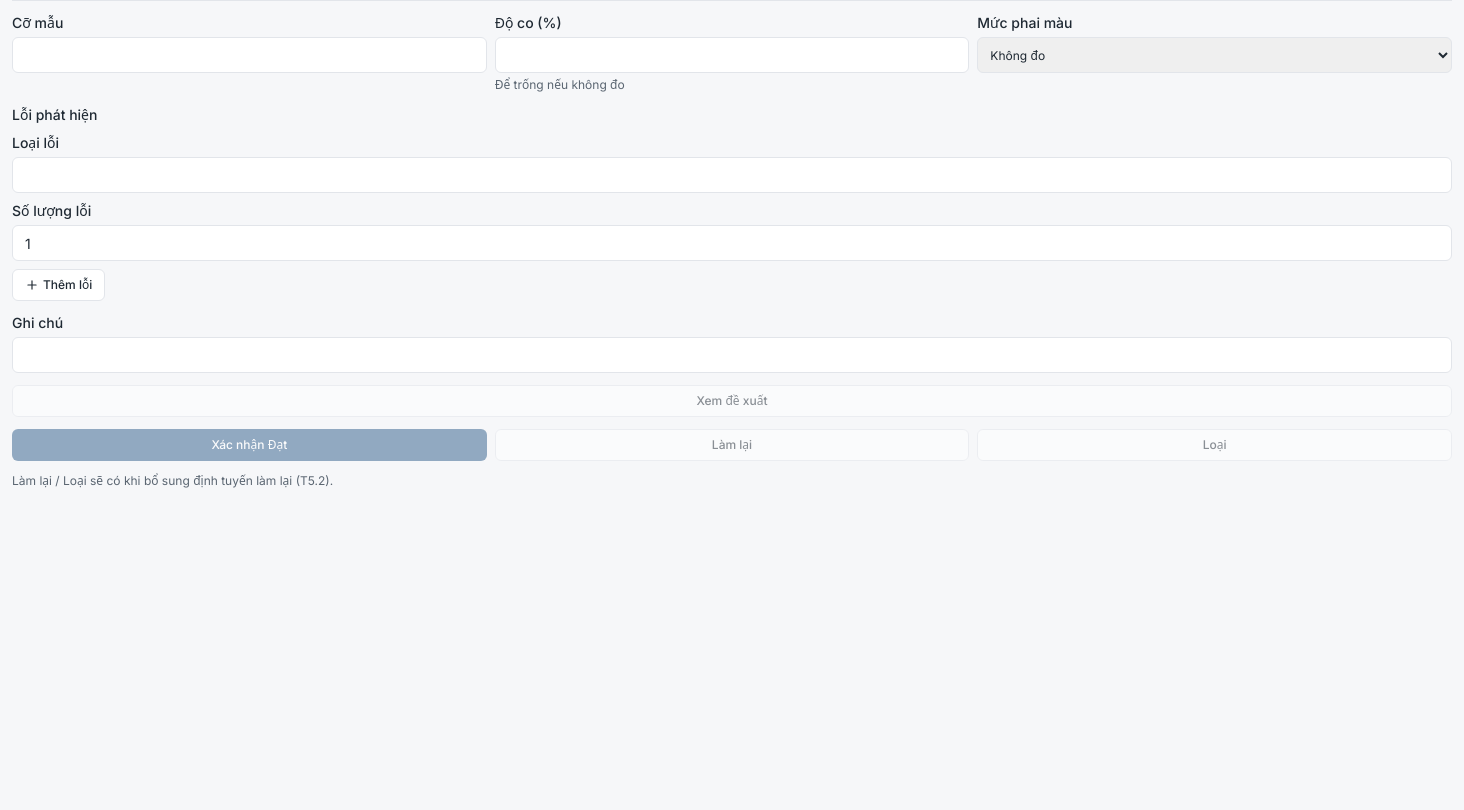
Test: QcPanel (T5.1, FR-16) › previews the proposal and only lets the inspector confirm a PASS (BR-19)
This screenshot has width=1464, height=810.
Type "20" into the number field labelled "Cỡ mẫu". click: (249, 55)
box: [12,37,487,73]
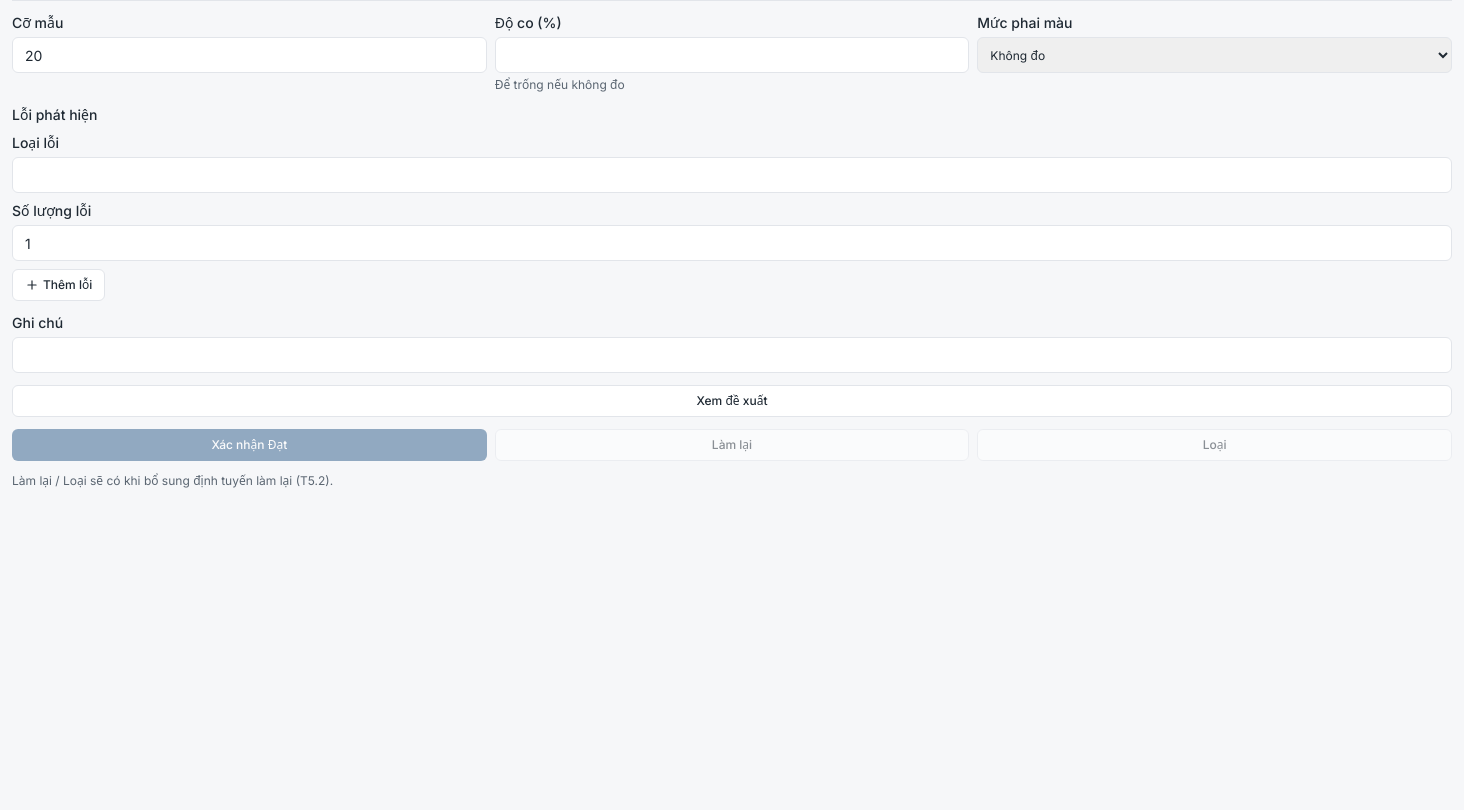
Type "4" into the number field labelled "Độ co (%)". click: (732, 55)
box: [495,37,969,73]
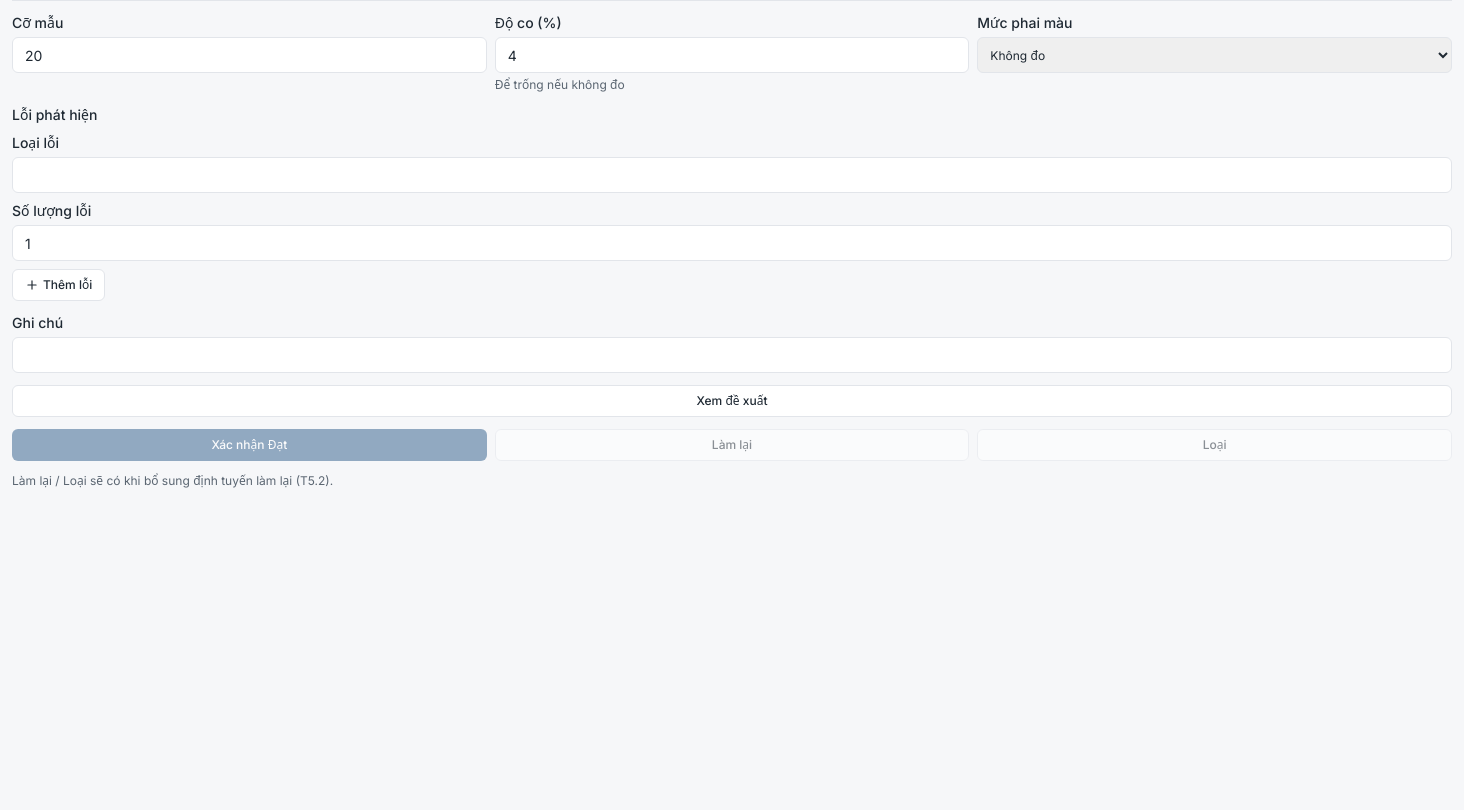
Click the button "Xem đề xuất". click: (732, 401)
box: [12,385,1452,417]
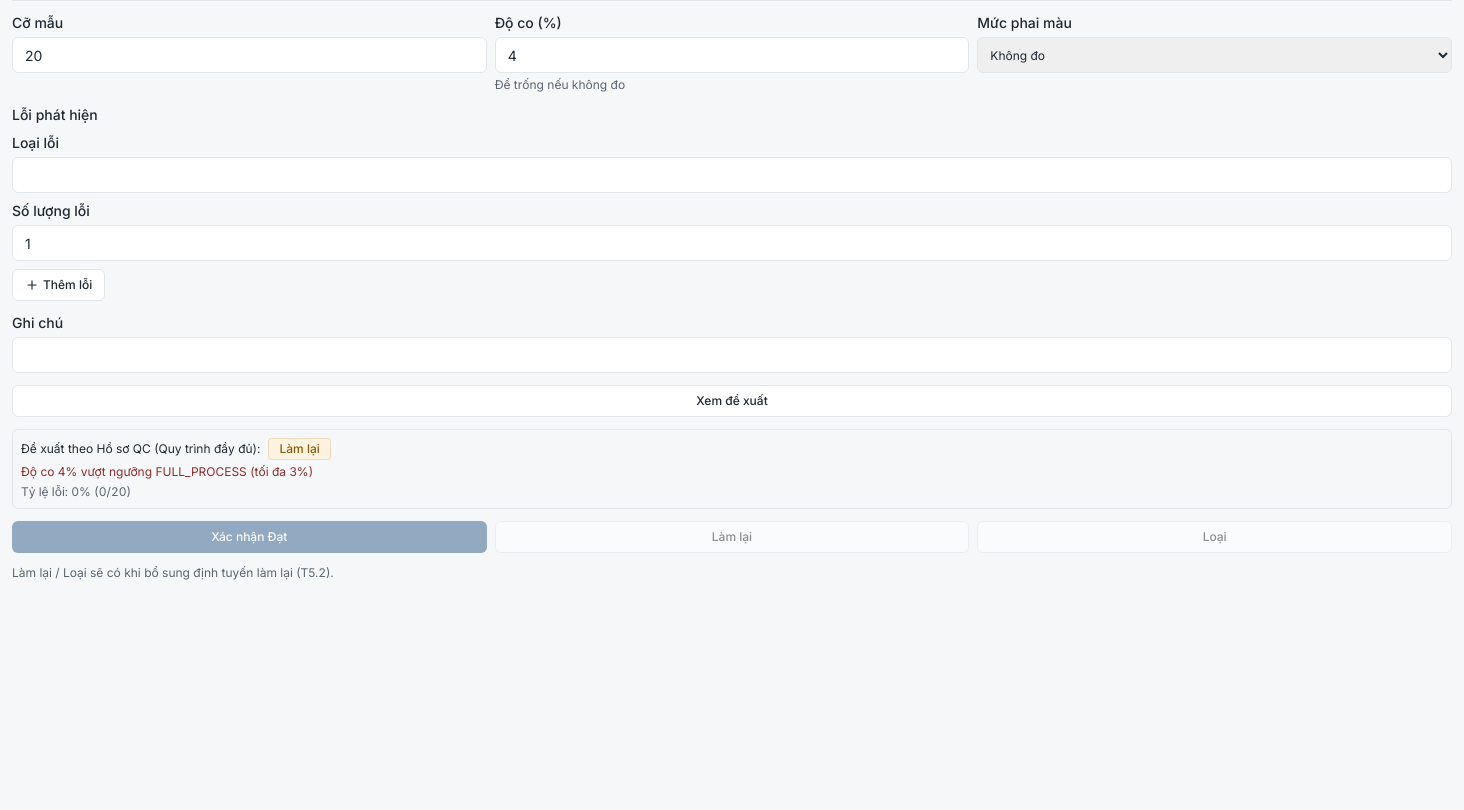
Check: the button "Xác nhận Đạt" is disabled, box [12,521,487,553]
Check: the text "Độ co 4% vượt ngưỡng FULL_PROCESS (tối đa 3%)" is shown, box [21,464,313,479]
Check: the text "Làm lại" is shown 2 times, box [268,438,331,460]; [495,521,969,553]
